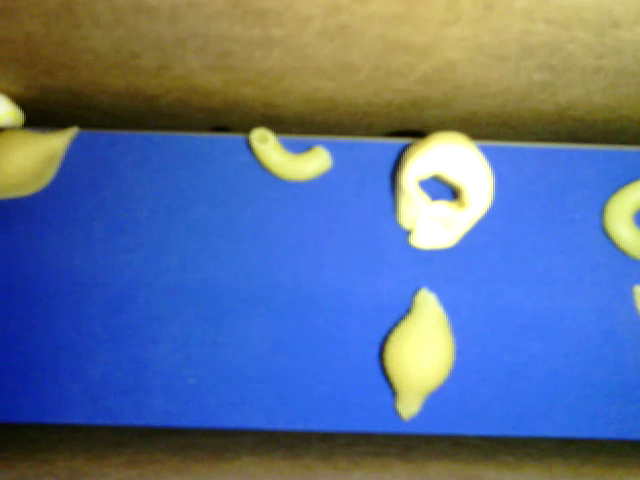elbow: (249, 124, 332, 181), (600, 179, 639, 261)
shell: (384, 287, 457, 421), (1, 126, 81, 197)
tortellini: (396, 129, 492, 253)
